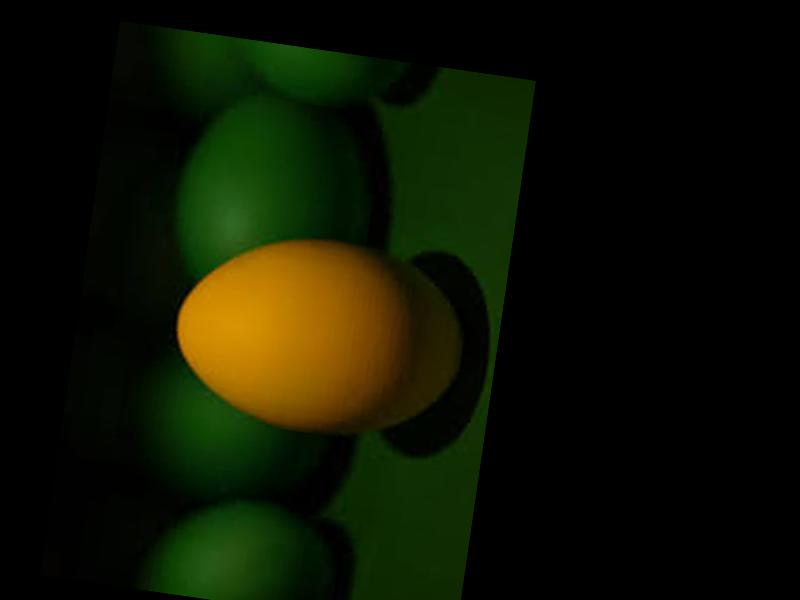Eggs: (166, 220, 475, 452)
